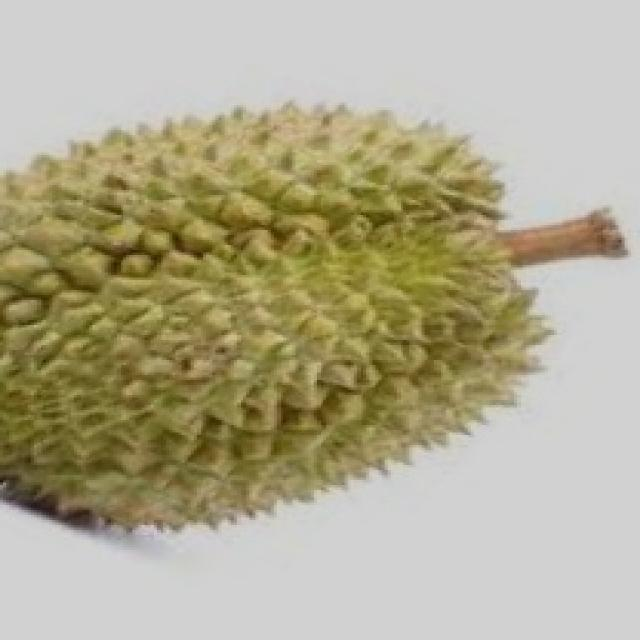fruit: (0, 202, 354, 592)
